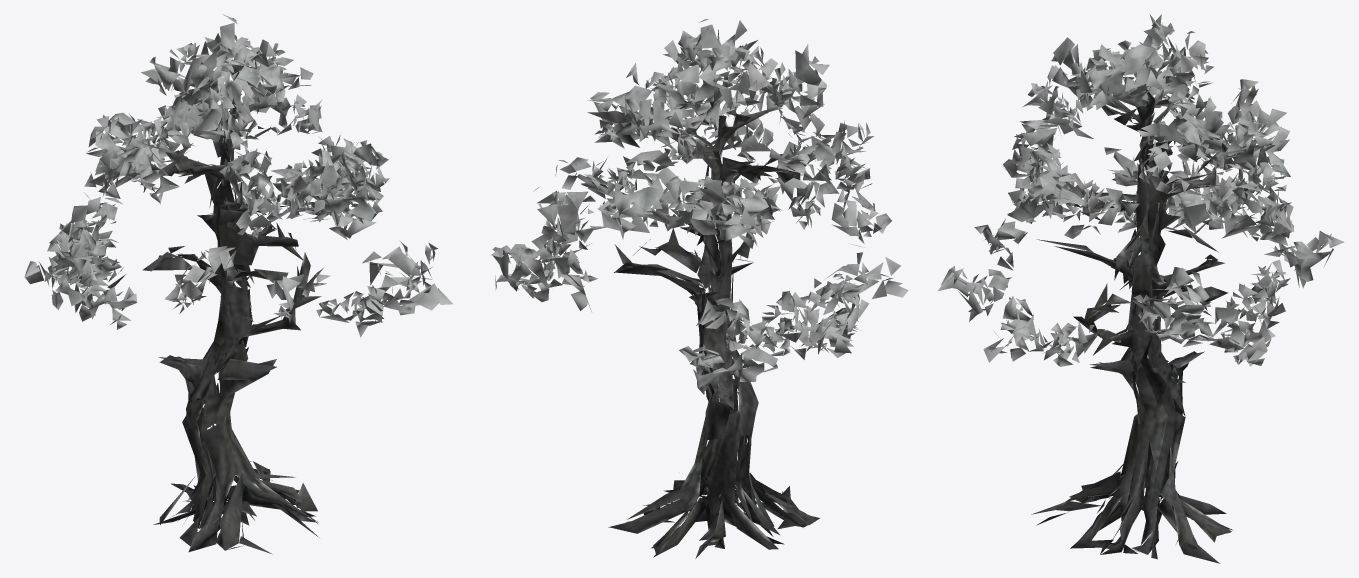
Rendered from pinheiro_cinza_morta.glb.
3 renders of one model, left to right at view 1: azimuth 30°, elevation 25°; view 2: azimuth 150°, elevation 25°; view 3: azimuth 270°, elevation 25°, orthographic. The views are drawn at different scales.
Parts seen in each view (by area): view 1: geometry_0; view 2: geometry_0; view 3: geometry_0.
Part boxes in pixels (x1,y1,x2,y2): geometry_0: (24, 14, 453, 554); geometry_0: (491, 19, 908, 558); geometry_0: (938, 14, 1344, 563).
Size of the model in its own units: 0.7168 by 1.02 by 0.7224.
Materials: 1 (1 with a texture image).
